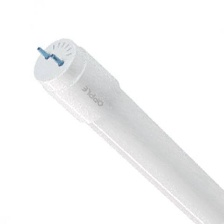light_bulb: (28, 34, 224, 223)
